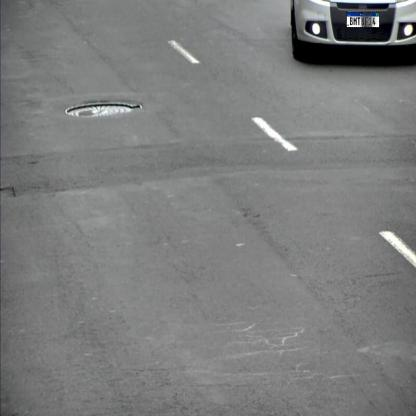PlacaM: (346, 12, 380, 28)
